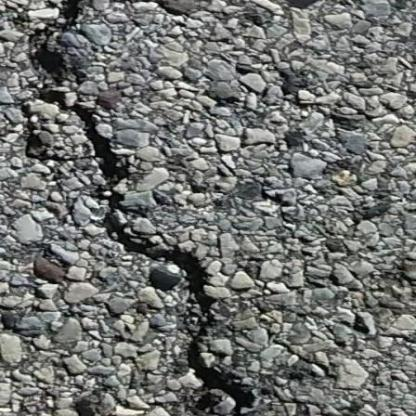Cracks: (0, 0, 272, 416)
